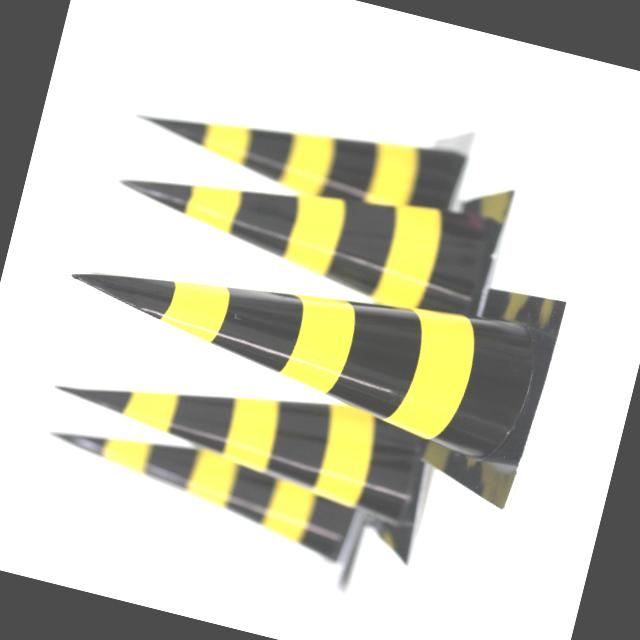cone: (24, 336, 430, 588), (105, 141, 493, 331)
